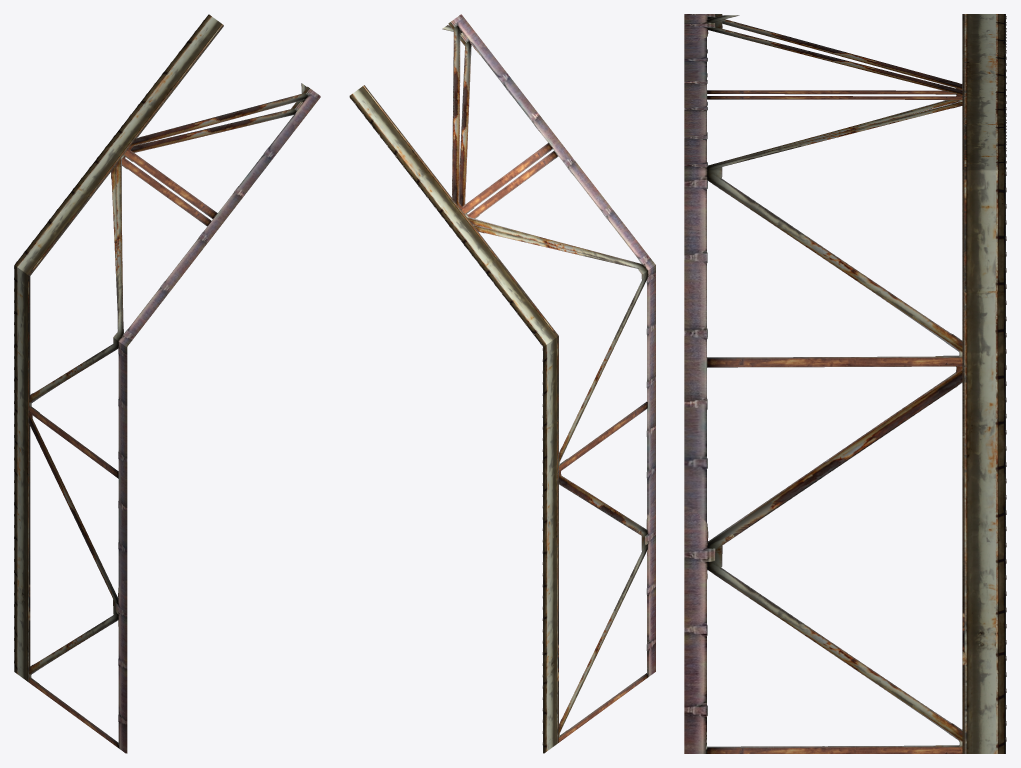
File: Wall_Girders_Giant10mts_01.fbx
3 renders of one model, left to right at view 1: azimuth 30°, elevation 25°; view 2: azimuth 150°, elevation 25°; view 3: azimuth 270°, elevation 25°, orthographic. The views are drawn at different scales.
Parts seen in each view (by area): view 1: Wall_Girders_Giant10mts_01; view 2: Wall_Girders_Giant10mts_01; view 3: Wall_Girders_Giant10mts_01.
Boxes of the visible parts, box(x1,y1,x2,y2) form: Wall_Girders_Giant10mts_01: box(14, 14, 320, 753); Wall_Girders_Giant10mts_01: box(349, 14, 655, 753); Wall_Girders_Giant10mts_01: box(684, 14, 1006, 753).
Bounding box in the file's own units: 500 × 1500 × 500.
